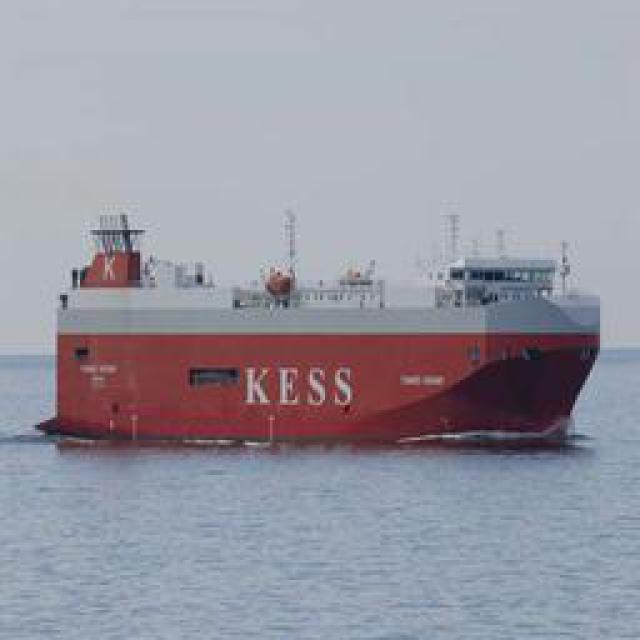Ship: (43, 215, 601, 443)
